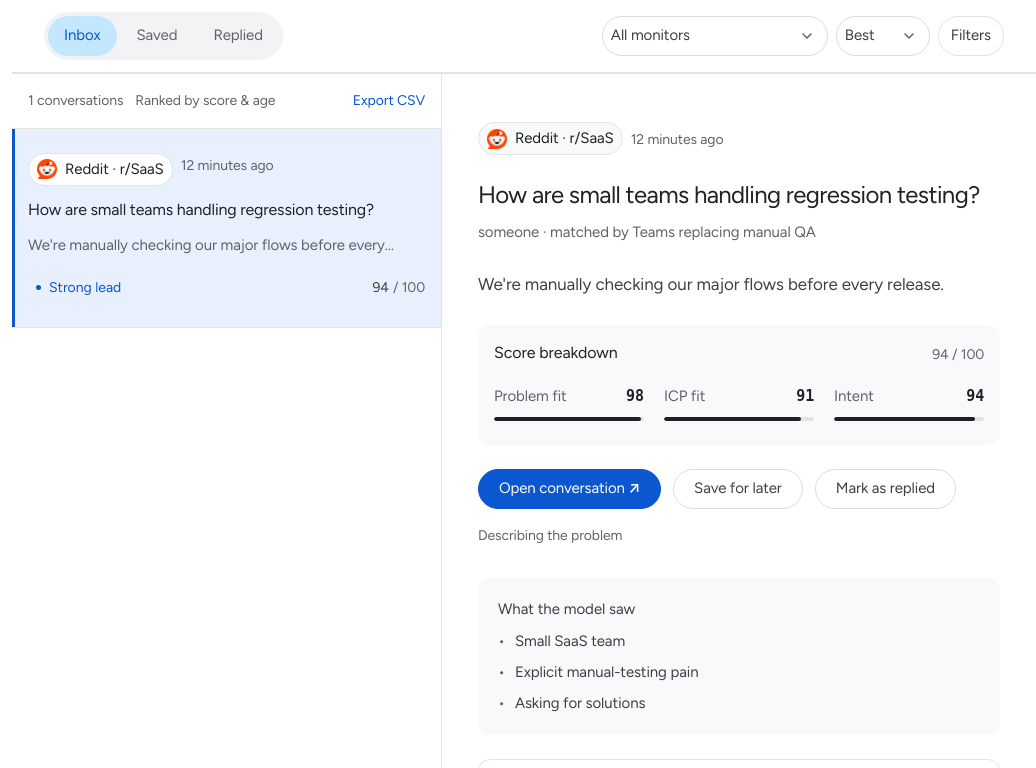
Scenario: the inbox › the order the list is read in › does not offer an order on the saved list, which has its own
Click the button "Saved" at (157, 36), box [120, 16, 193, 56]
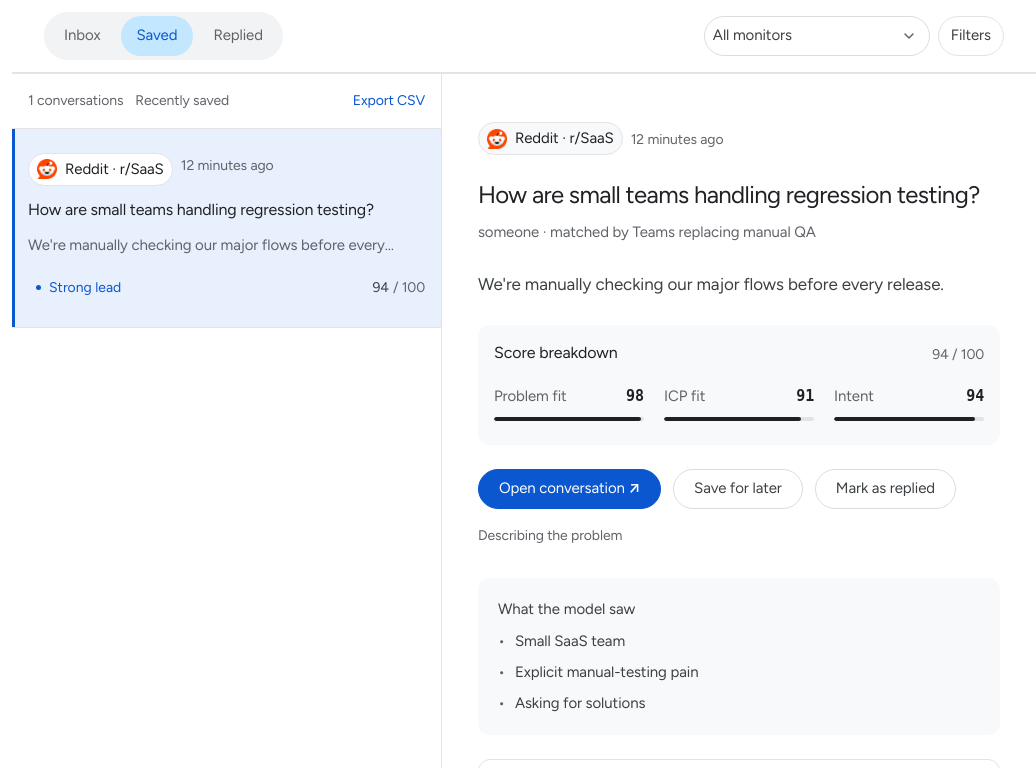
Check: the dropdown named "Order" is gone
Check: the element with class "list-heading" shows "Recently saved", box [135, 92, 229, 109]
